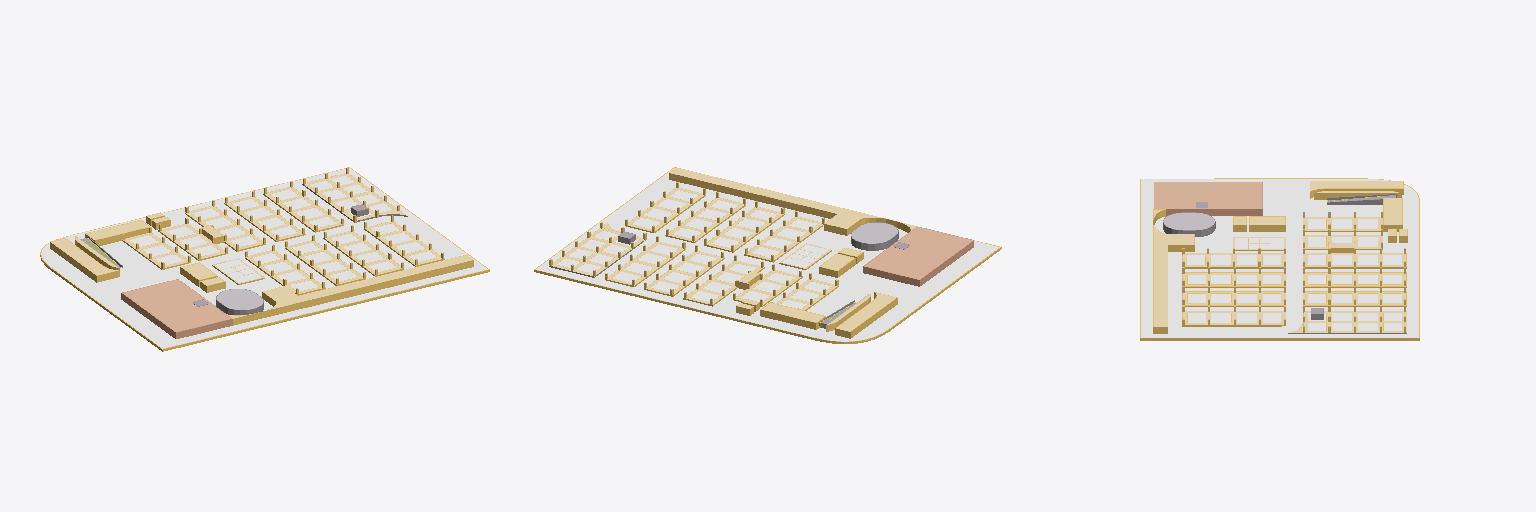
Rendered from logix_parking_level01.obj.
3 views of the same model, side by side, from view 1: azimuth 30°, elevation 25°; view 2: azimuth 150°, elevation 25°; view 3: azimuth 270°, elevation 25° (orthographic).
Visible parts, largest first — view 1: group6_pasted__polySurface25; view 2: group6_pasted__polySurface25; view 3: group6_pasted__polySurface25.
Part boxes in pixels (bbox=[...]): group6_pasted__polySurface25: bbox=[40, 167, 489, 351]; group6_pasted__polySurface25: bbox=[534, 167, 1001, 343]; group6_pasted__polySurface25: bbox=[1140, 178, 1419, 340].
Size of the model in its own units: 32.06 by 0.8725 by 23.76.